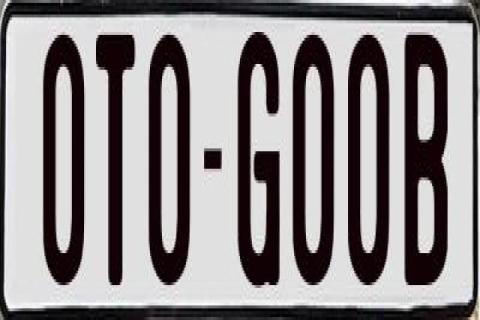0: (40, 35, 86, 303), (148, 32, 192, 291), (348, 35, 391, 291), (290, 29, 332, 285)
B: (401, 26, 449, 276)
G: (234, 29, 276, 294)
T: (92, 35, 136, 297)
